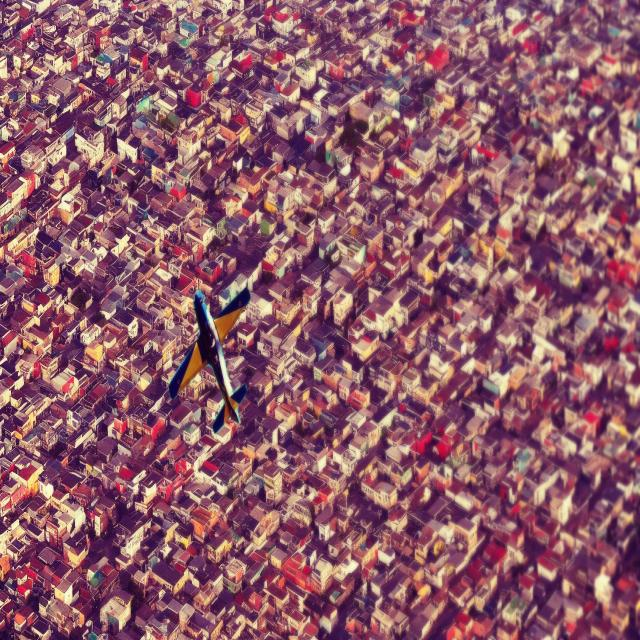airplane: (167, 281, 251, 432)
